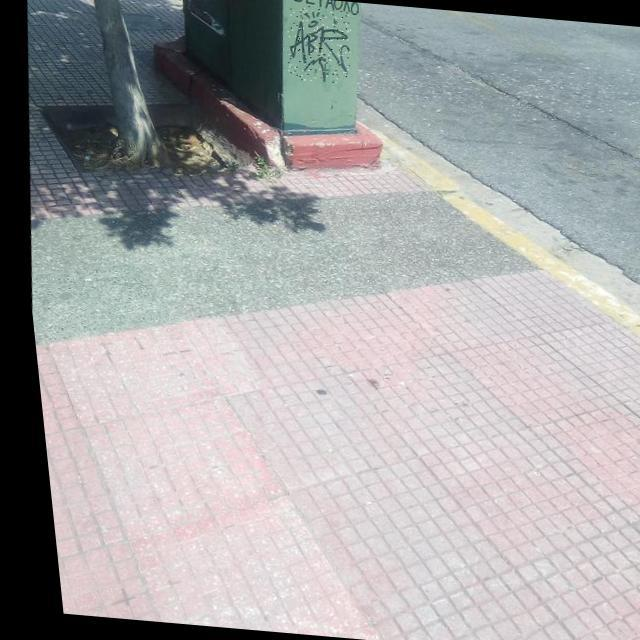-: (280, 6, 356, 85), (290, 0, 361, 16)
